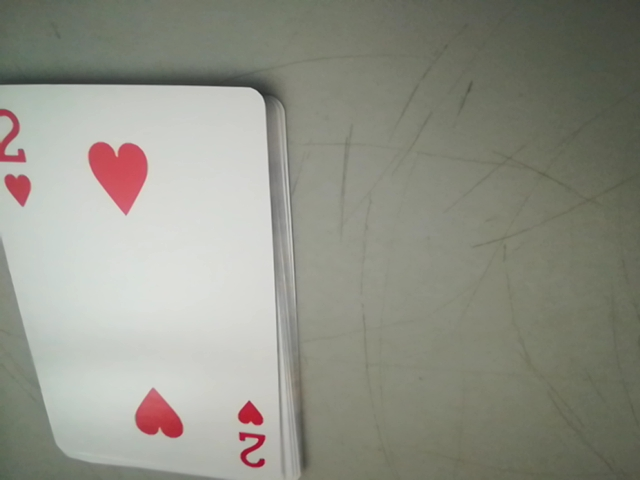hx 2: (231, 401, 276, 480)
